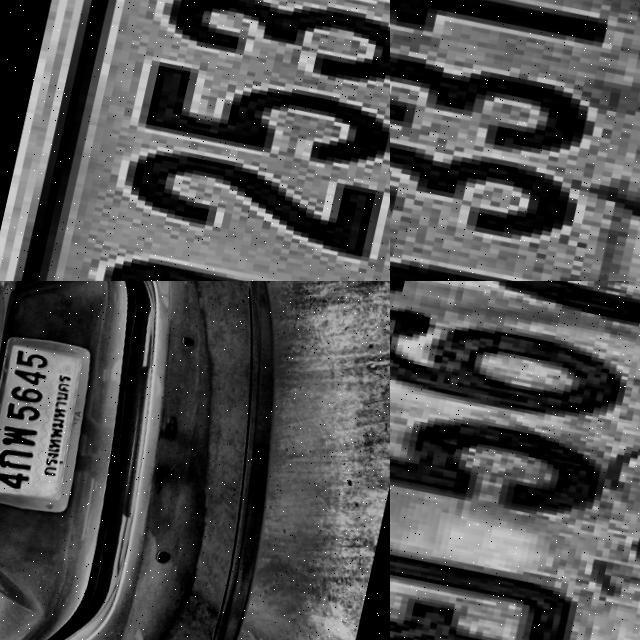license-plate: (0, 0, 390, 281), (390, 281, 640, 640), (390, 0, 640, 281), (0, 323, 106, 525)
